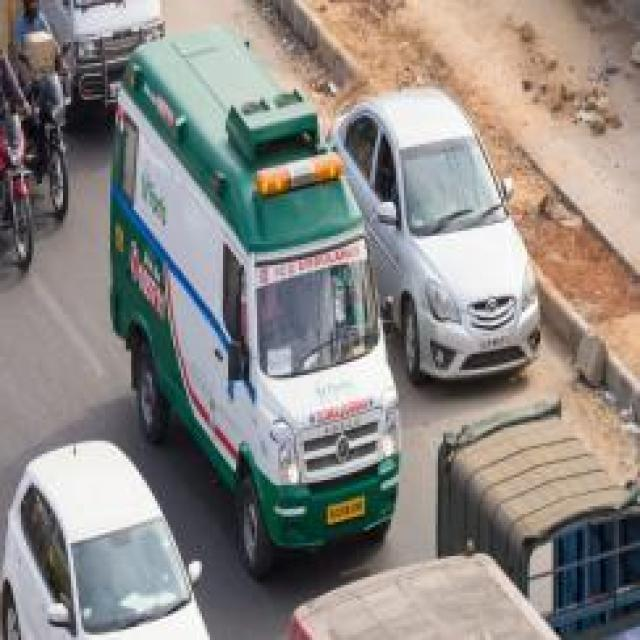Ambulance: (0, 0, 637, 637), (102, 21, 404, 580), (325, 82, 546, 388), (0, 436, 223, 638), (26, 0, 168, 126)
